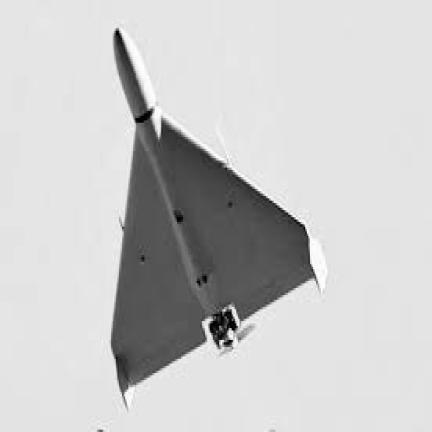Shahed: (110, 26, 327, 406)
